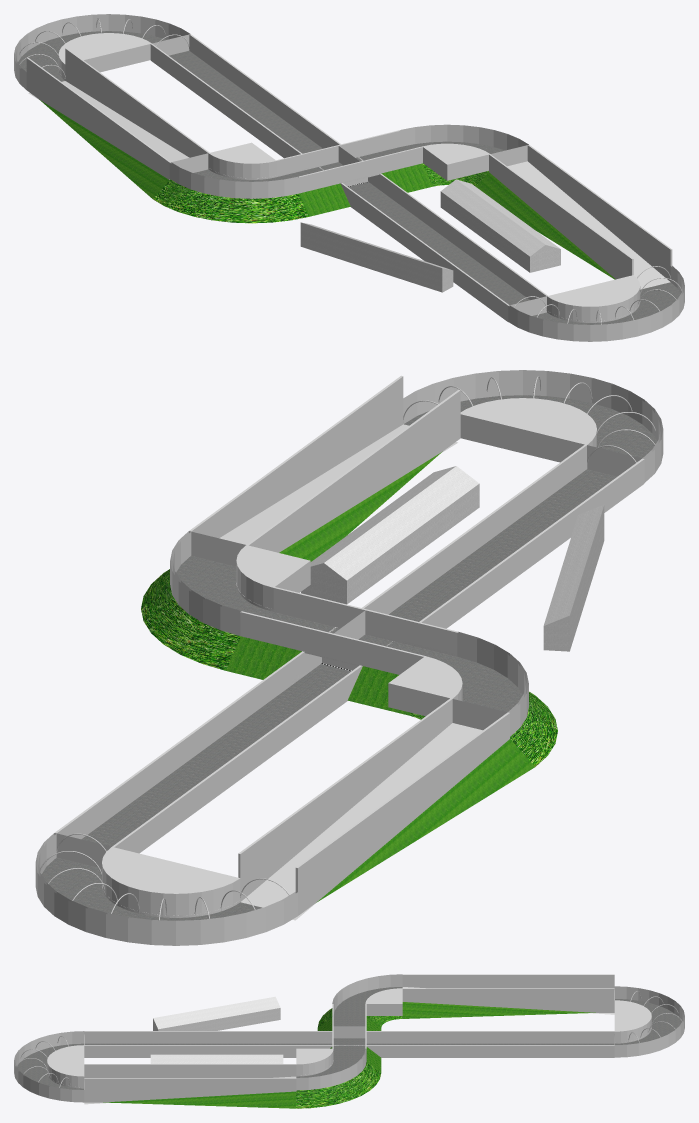
Rendered from Map1.fbx.
3 views of the same model, one above another, from view 1: azimuth 30°, elevation 25°; view 2: azimuth 150°, elevation 25°; view 3: azimuth 270°, elevation 25° (orthographic). The views are drawn at different scales.
Parts seen in each view (by area): view 1: 平面_2_2, 立方体_2_3, 立方体_1_2, 立方体_7, 立方体_3_3, 立方体_27, 立方体_4_2, 立方体_5_2, 円錐_1, 立方体_6, 円柱, 円柱_1 (+16 smaller); view 2: 平面_2_2, 立方体_2_3, 立方体_1_2, 立方体_7, 立方体_27, 立方体_6, 立方体_4_2, 立方体_5_2, 円柱_1, 円柱, 平面_1, 立方体_3_8 (+21 smaller); view 3: 立方体_1_2, 立方体_2_3, 立方体_6, 立方体_5_2, 立方体_7, 立方体_4_2, 立方体_3_3, 立方体_4_8, 立方体_3_8, 円錐, 円柱_1, 円柱 (+14 smaller).
Part boxes in pixels (x1=…): 平面_2_2: x1=169, y1=51, x2=529, y2=304; 立方体_2_3: x1=189, y1=34, x2=547, y2=300; 立方体_1_2: x1=150, y1=43, x2=509, y2=321; 立方体_7: x1=26, y1=57, x2=171, y2=179; 立方体_3_3: x1=300, y1=222, x2=453, y2=292; 立方体_27: x1=440, y1=179, x2=545, y2=272; 立方体_4_2: x1=489, y1=154, x2=633, y2=279; 立方体_5_2: x1=527, y1=145, x2=672, y2=281; 円錐_1: x1=153, y1=179, x2=308, y2=223; 立方体_6: x1=65, y1=48, x2=209, y2=157; 円柱: x1=547, y1=275, x2=640, y2=321; 円柱_1: x1=58, y1=33, x2=151, y2=78; 平面_2_2: x1=81, y1=469, x2=617, y2=846; 立方体_2_3: x1=54, y1=444, x2=586, y2=839; 立方体_1_2: x1=112, y1=458, x2=644, y2=853; 立方体_7: x1=295, y1=712, x2=509, y2=915; 立方体_27: x1=324, y1=466, x2=479, y2=604; 立方体_6: x1=238, y1=698, x2=452, y2=901; 立方体_4_2: x1=247, y1=389, x2=460, y2=552; 立方体_5_2: x1=189, y1=375, x2=403, y2=538; 円柱_1: x1=102, y1=847, x2=240, y2=915; 円柱: x1=460, y1=398, x2=596, y2=462; 平面_1: x1=241, y1=723, x2=482, y2=920; 立方体_3_8: x1=316, y1=739, x2=534, y2=902; 立方体_1_2: x1=84, y1=1031, x2=614, y2=1043; 立方体_2_3: x1=84, y1=1045, x2=614, y2=1057; 立方体_6: x1=402, y1=988, x2=614, y2=1012; 立方体_5_2: x1=84, y1=1078, x2=296, y2=1102; 立方体_7: x1=402, y1=974, x2=614, y2=988; 立方体_4_2: x1=84, y1=1064, x2=296, y2=1077; 立方体_3_3: x1=153, y1=996, x2=280, y2=1030; 立方体_4_8: x1=103, y1=1091, x2=296, y2=1108; 立方体_3_8: x1=402, y1=1002, x2=595, y2=1018; 円錐: x1=296, y1=1062, x2=381, y2=1108; 円柱_1: x1=614, y1=1000, x2=651, y2=1042; 円柱: x1=47, y1=1045, x2=84, y2=1087.
Size of what is drawn, in the model's own units: 10400 by 1100 by 25300.
5 materials, 3 textured.
